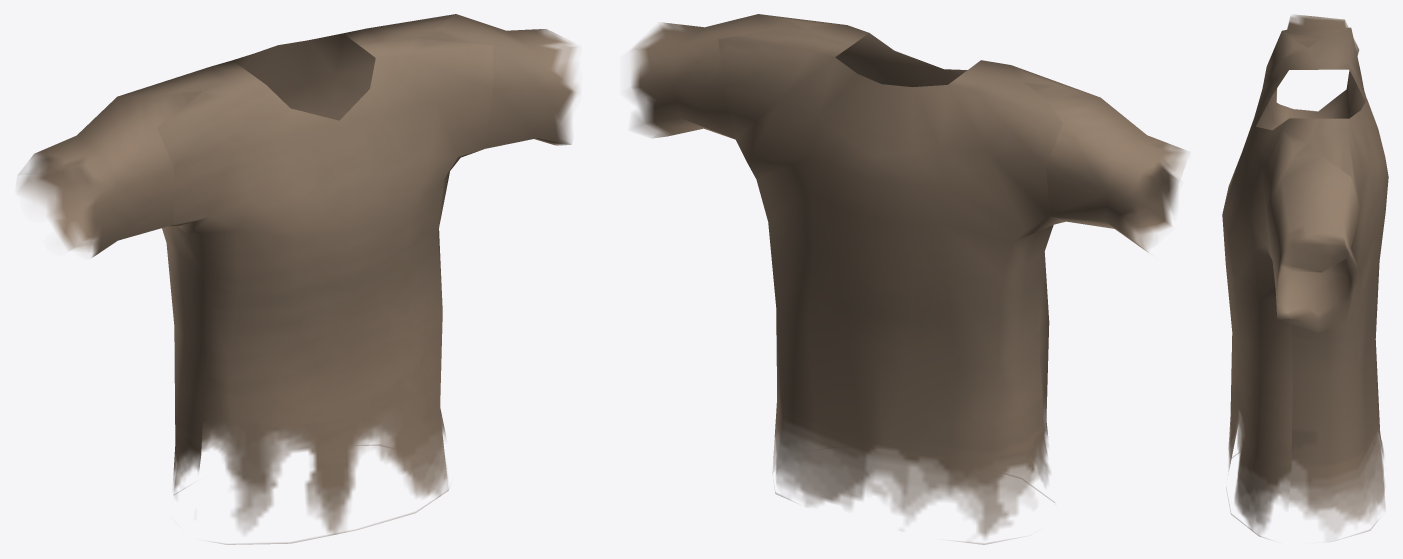
File: Рваная футболка.glb
3 views of the same model, side by side, from view 1: azimuth 30°, elevation 25°; view 2: azimuth 150°, elevation 25°; view 3: azimuth 270°, elevation 25° (orthographic). The views are drawn at different scales.
Visible parts, largest first — view 1: Болванка.002; view 2: Болванка.002; view 3: Болванка.002.
Part boxes in pixels (x1,y1,x2,y2): Болванка.002: (18, 14, 578, 544); Болванка.002: (629, 14, 1188, 544); Болванка.002: (1222, 15, 1388, 541).
Size of the model in its own units: 0.7713 by 0.583 by 0.2234.
Materials: 1 (1 with a texture image).
